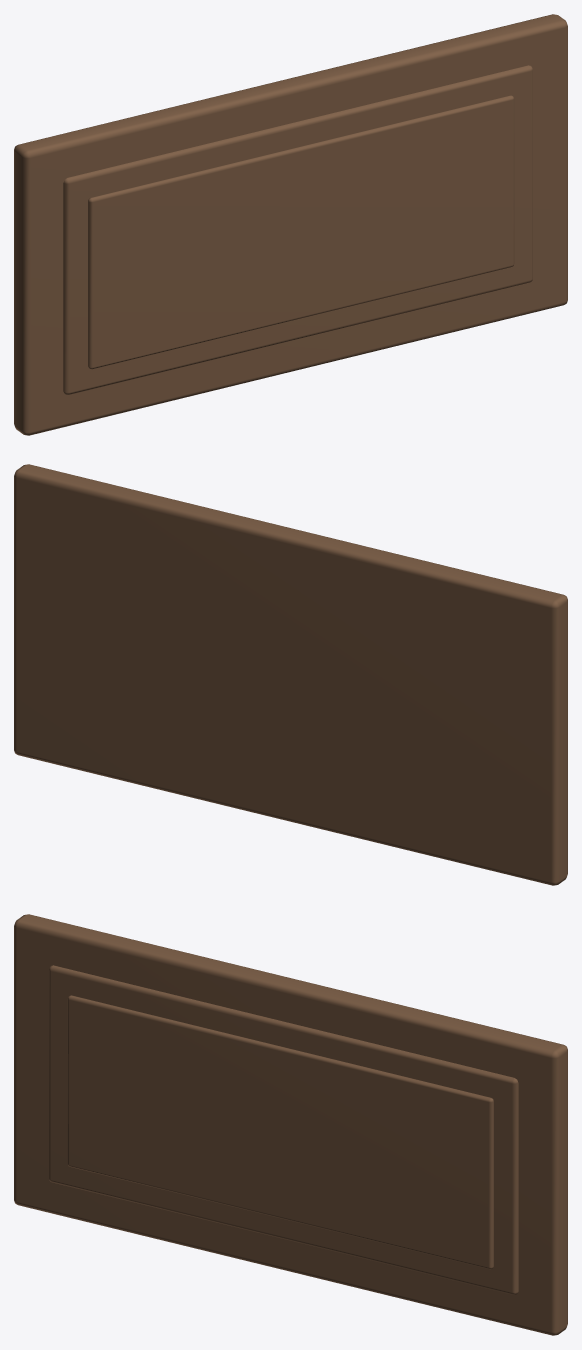
Rendered from lp_drawer_front_field.glb.
The picture shows the model from 3 angles, top to bottom: view 1: azimuth 30°, elevation 25°; view 2: azimuth 150°, elevation 25°; view 3: azimuth 330°, elevation 25°; orthographic projection.
Visible parts, largest first — view 1: lp_drawer_front_field; view 2: lp_drawer_front_field; view 3: lp_drawer_front_field.
Part boxes in pixels (left/top/right/bottom): lp_drawer_front_field: left=14, top=14, right=567, bottom=435; lp_drawer_front_field: left=14, top=464, right=567, bottom=885; lp_drawer_front_field: left=14, top=914, right=567, bottom=1335.
Bounding box in the file's own units: 0.5 × 0.25 × 0.03.
